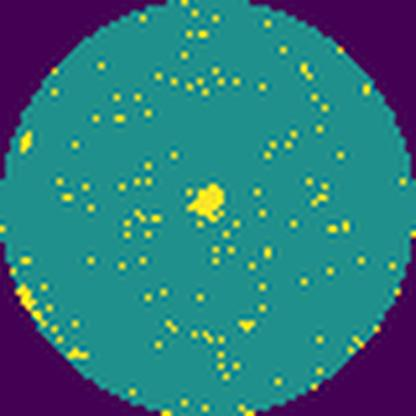Center: (186, 182, 227, 225)
